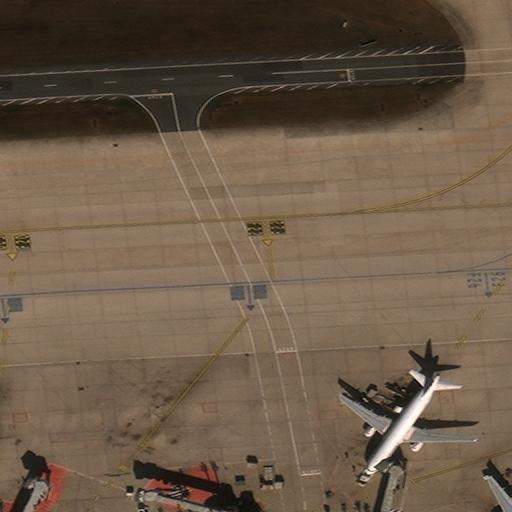Medium Civil Transport: (339, 375, 476, 473)
